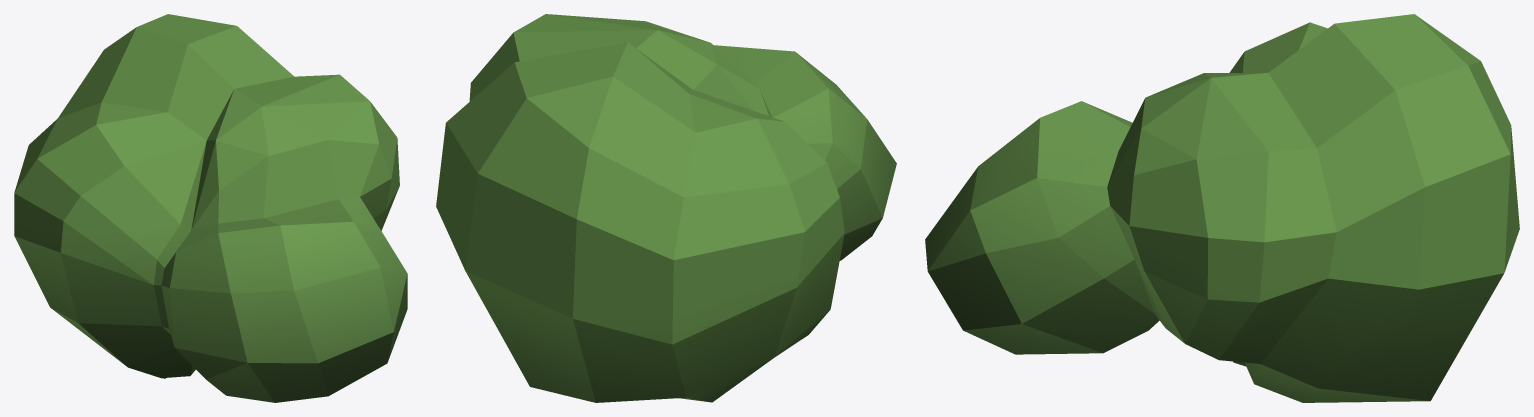
Rendered from Oak-Bush-02.fbx.
3 views of the same model, side by side, from view 1: azimuth 30°, elevation 25°; view 2: azimuth 150°, elevation 25°; view 3: azimuth 270°, elevation 25° (orthographic). The views are drawn at different scales.
Visible parts, largest first — view 1: Oak-Bush-02; view 2: Oak-Bush-02; view 3: Oak-Bush-02.
Boxes of the visible parts, left/top/right/bottom form: Oak-Bush-02: left=14, top=14, right=407, bottom=402; Oak-Bush-02: left=436, top=14, right=896, bottom=402; Oak-Bush-02: left=925, top=14, right=1519, bottom=402.
Bounding box in the file's own units: 634 × 560 × 802.
1 material, 1 textured.
